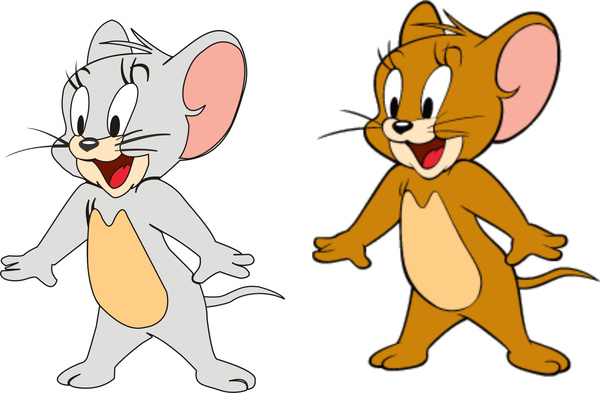jerry: (310, 2, 600, 377)
